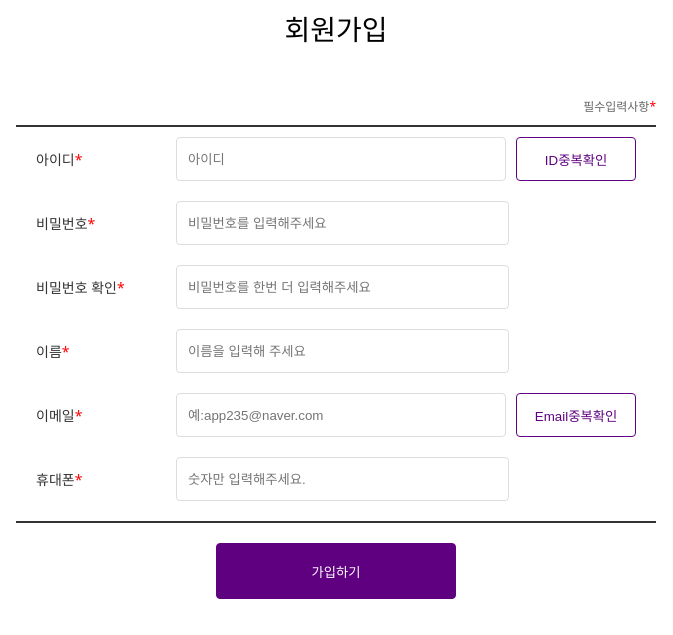
it: 회원가입 페이지 › 이메일입력 유효성 검사 에러메세지 노출
This screenshot has width=673, height=635.
Type "test@gmail.com" into the field with id "input-email". click: (339, 415)
box: top-left (188, 394), bottom-right (490, 436)
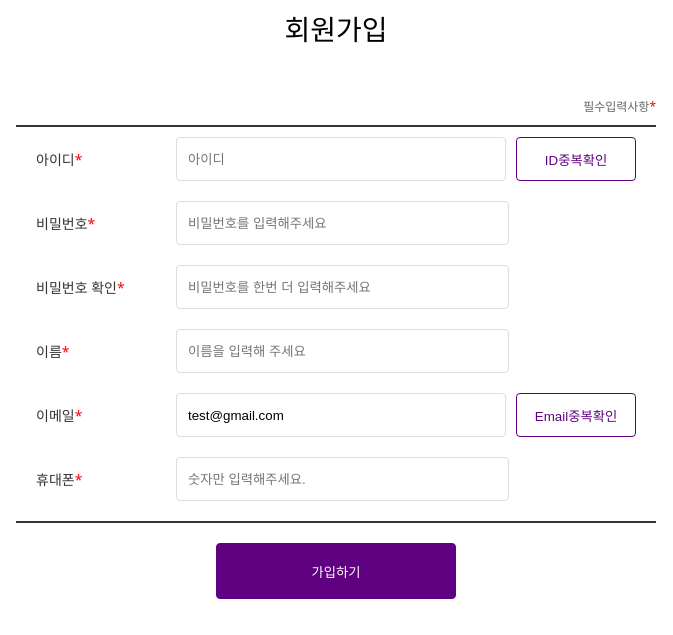
Replace the text in the field with id "input-email" with "test.tst.test". click: (339, 415)
box: top-left (188, 394), bottom-right (490, 436)
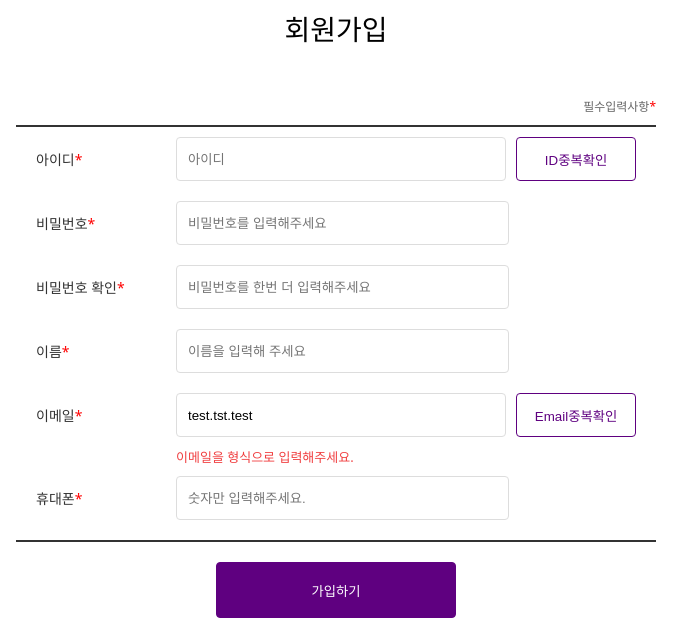
Now the text named "email Error Message" is shown, box top-left (176, 448), bottom-right (354, 466)
